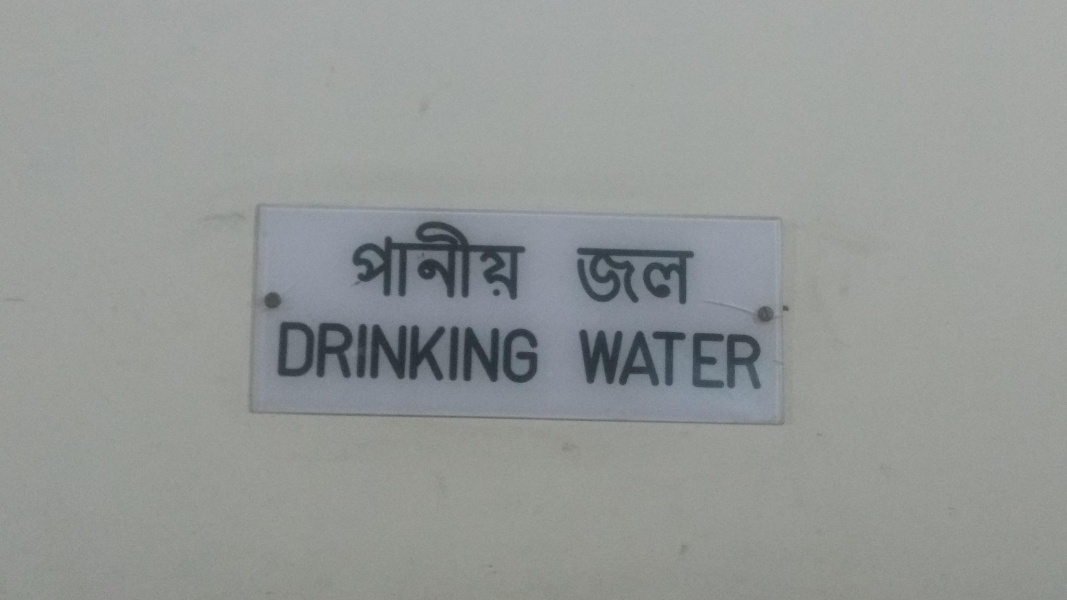text: (369, 220, 384, 304), (385, 220, 400, 304), (401, 220, 416, 304), (417, 220, 432, 304), (433, 220, 448, 304), (449, 220, 464, 304), (465, 220, 480, 304), (481, 220, 496, 304), (497, 220, 512, 304), (513, 220, 528, 304), (355, 220, 368, 304), (289, 320, 304, 385), (305, 320, 320, 385), (321, 320, 336, 385), (337, 320, 352, 385), (353, 320, 368, 385), (369, 320, 384, 385), (385, 320, 400, 385), (401, 320, 416, 385), (417, 320, 432, 385), (433, 320, 448, 385), (449, 320, 464, 385), (465, 320, 480, 385), (481, 320, 496, 385), (497, 320, 512, 385), (513, 320, 528, 385), (593, 329, 608, 390), (609, 329, 624, 390), (625, 329, 640, 390), (641, 329, 656, 390), (657, 329, 672, 390), (673, 329, 688, 390), (689, 329, 704, 390), (705, 329, 720, 390), (721, 329, 736, 390), (737, 329, 752, 390), (593, 246, 608, 305), (609, 246, 624, 305), (625, 246, 640, 305), (641, 246, 656, 305), (657, 246, 672, 305), (673, 246, 688, 305), (753, 329, 767, 390), (529, 320, 542, 385), (578, 246, 592, 305), (579, 329, 592, 390), (278, 320, 288, 385), (689, 246, 699, 305), (529, 220, 531, 304)
